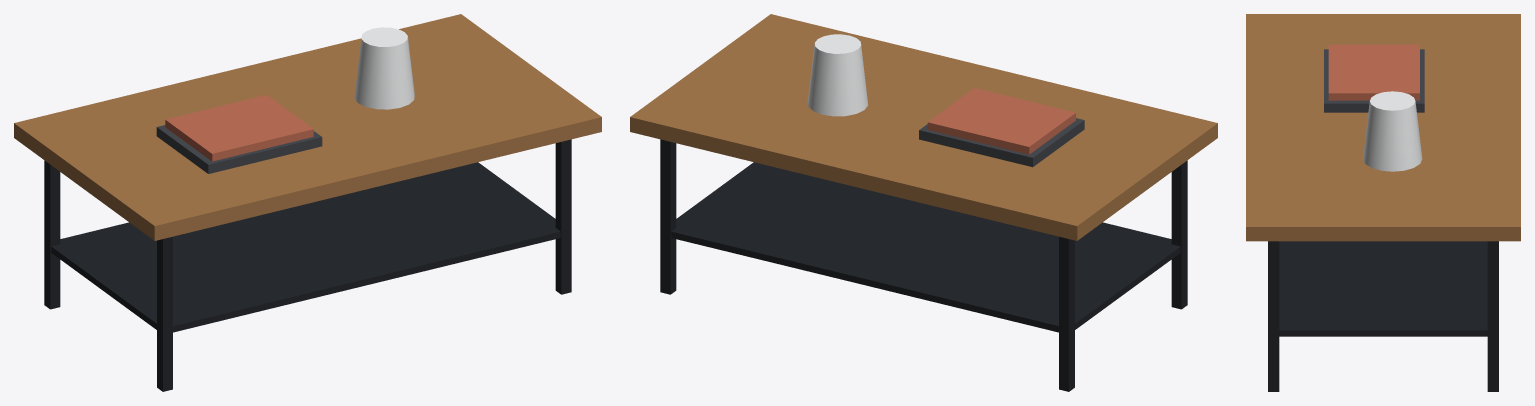
File: coffee_table.glb
The picture shows the model from 3 angles, left to right: view 1: azimuth 30°, elevation 25°; view 2: azimuth 150°, elevation 25°; view 3: azimuth 270°, elevation 25°; orthographic projection. The views are drawn at different scales.
Size of the model in its own units: 1.1 by 0.56 by 0.6.
